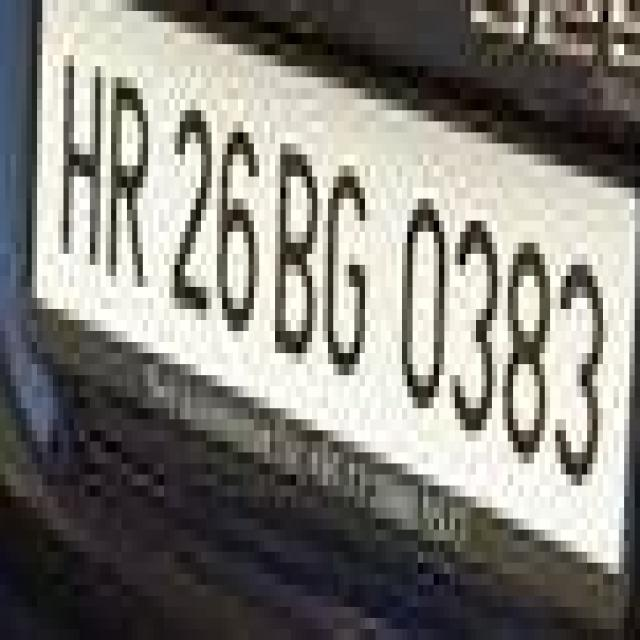license_plate: (26, 33, 640, 530)
